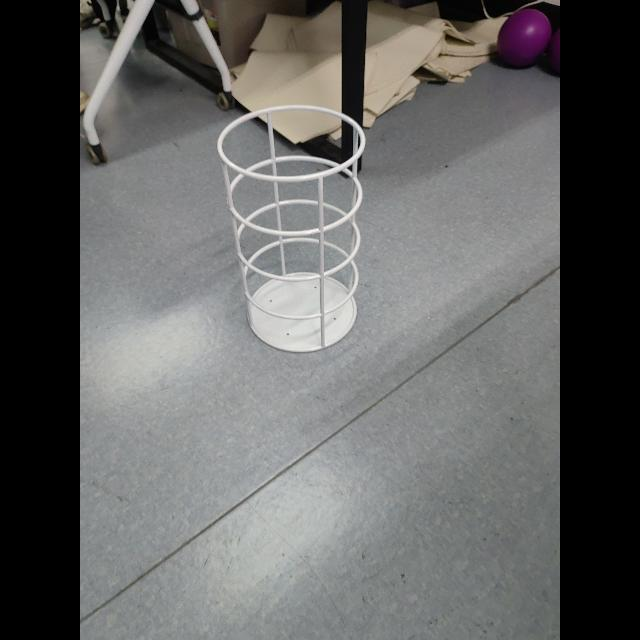S: (210, 102, 372, 360)
